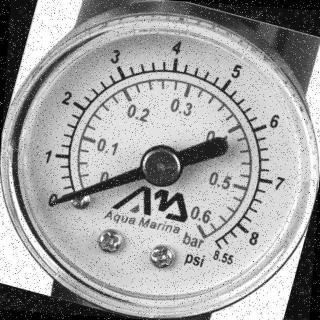gauge: (0, 0, 320, 320), (193, 220, 242, 265), (138, 142, 184, 188), (42, 178, 90, 216), (46, 194, 62, 212)
